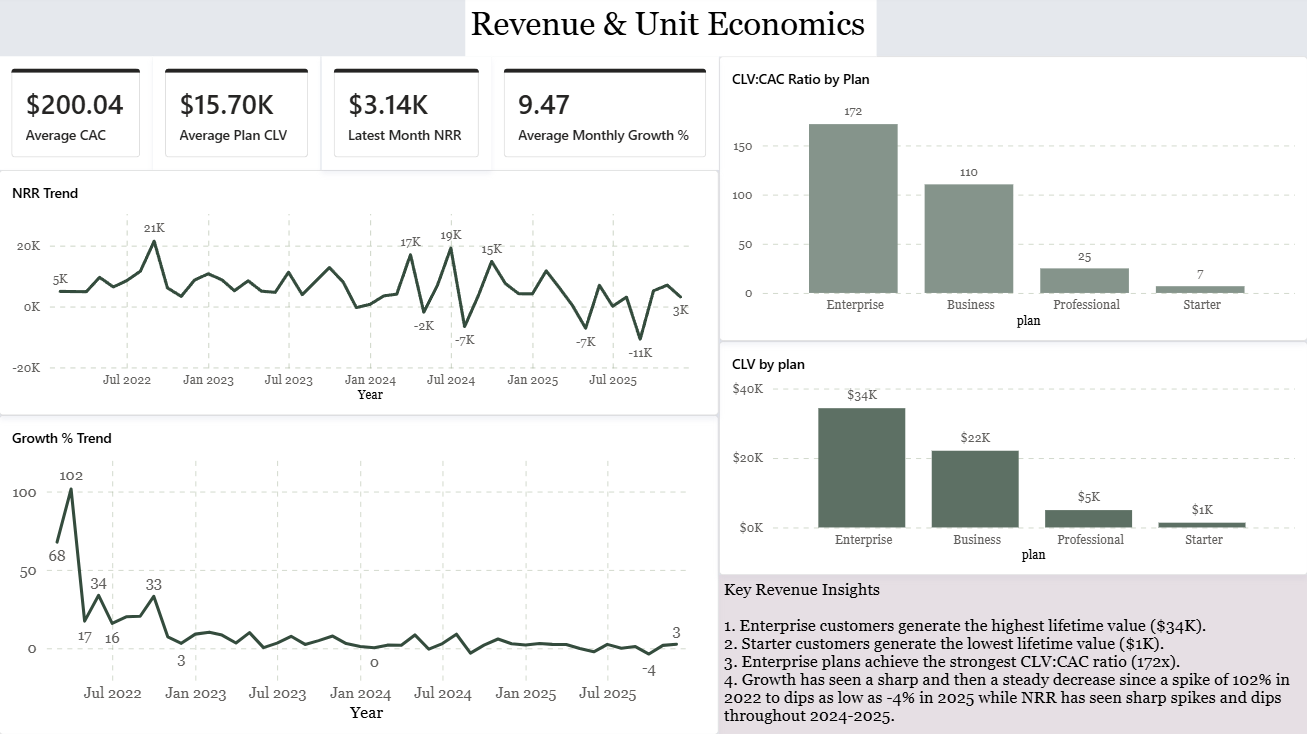

What the dashboard file says about the page in this screenshot:
{"tool":"powerbi","page":{"name":"Revenue & Unit Economics","canvas":[1280,720],"ordinal":3},"visuals":[{"type":"lineChart","title":"Growth % Trend","fields":{"Y":["Sum(rcanalysis vw_revenue_trends.growth_pct)"],"Category":["rcanalysis vw_revenue_trends.month.Variation.Date Hierarchy.Year","rcanalysis vw_revenue_trends.month.Variation.Date Hierarchy.Month"]},"box":[0,406.2,703.9,312.9],"z":0},{"type":"clusteredColumnChart","fields":{"Category":["rcanalysis vw_plan_clv_cac.plan"],"Y":["Sum(rcanalysis vw_plan_clv_cac.CLV)"]},"box":[703.9,333.4,576.3,229.2],"z":1000},{"type":"clusteredColumnChart","title":"CLV:CAC Ratio by Plan","fields":{"Category":["rcanalysis vw_plan_clv_cac.plan"],"Y":["Sum(rcanalysis vw_plan_clv_cac.clv_cac_ratio)"]},"box":[703.9,54.9,576.3,278.6],"z":2000},{"type":"cardVisual","fields":{"Data":["rcanalysis vw_revenue_trends.Average Monthly Growth %"]},"box":[481.6,54.9,222.3,111.1],"z":3000},{"type":"cardVisual","fields":{"Data":["Max(rcanalysis vw_plan_clv_cac.avg_cac)"]},"box":[0,54.9,150.9,111.1],"z":4000},{"type":"cardVisual","fields":{"Data":["Avg(rcanalysis vw_plan_clv_cac.CLV)"]},"box":[150.9,54.9,164.7,111.1],"z":5000},{"type":"textbox","box":[455.6,0,402.1,54.9],"z":6000},{"type":"textbox","box":[703.9,562.6,576.3,157.8],"z":7000},{"type":"lineChart","title":"NRR Trend","fields":{"Y":["Max(rcanalysis vw_revenue_trends.nrr)"],"Category":["rcanalysis vw_revenue_trends.month.Variation.Date Hierarchy.Year","rcanalysis vw_revenue_trends.month.Variation.Date Hierarchy.Quarter","rcanalysis vw_revenue_trends.month.Variation.Date Hierarchy.Month","rcanalysis vw_revenue_trends.month.Variation.Date Hierarchy.Day"]},"box":[0,166,703.9,240.1],"z":8000},{"type":"cardVisual","fields":{"Data":["rcanalysis vw_revenue_trends.Latest Month NRR"]},"box":[315.6,54.9,166,111.1],"z":9000}]}

Visuals, with their boxes in screenshot pixels (x1, y1, x2, y2), scaled from the page's 1280x720 canvas onto the 1307x734 screenshot:
"Growth % Trend" lineChart: <box>0,414,719,733</box>
clusteredColumnChart - rcanalysis vw_plan_clv_cac.plan x Sum(rcanalysis vw_plan_clv_cac.CLV): <box>719,340,1306,574</box>
"CLV:CAC Ratio by Plan" clusteredColumnChart: <box>719,56,1306,340</box>
cardVisual - rcanalysis vw_revenue_trends.Average Monthly Growth %: <box>492,56,719,169</box>
cardVisual - Max(rcanalysis vw_plan_clv_cac.avg_cac): <box>0,56,154,169</box>
cardVisual - Avg(rcanalysis vw_plan_clv_cac.CLV): <box>154,56,322,169</box>
textbox: <box>465,0,876,56</box>
textbox: <box>719,574,1306,733</box>
"NRR Trend" lineChart: <box>0,169,719,414</box>
cardVisual - rcanalysis vw_revenue_trends.Latest Month NRR: <box>322,56,492,169</box>
